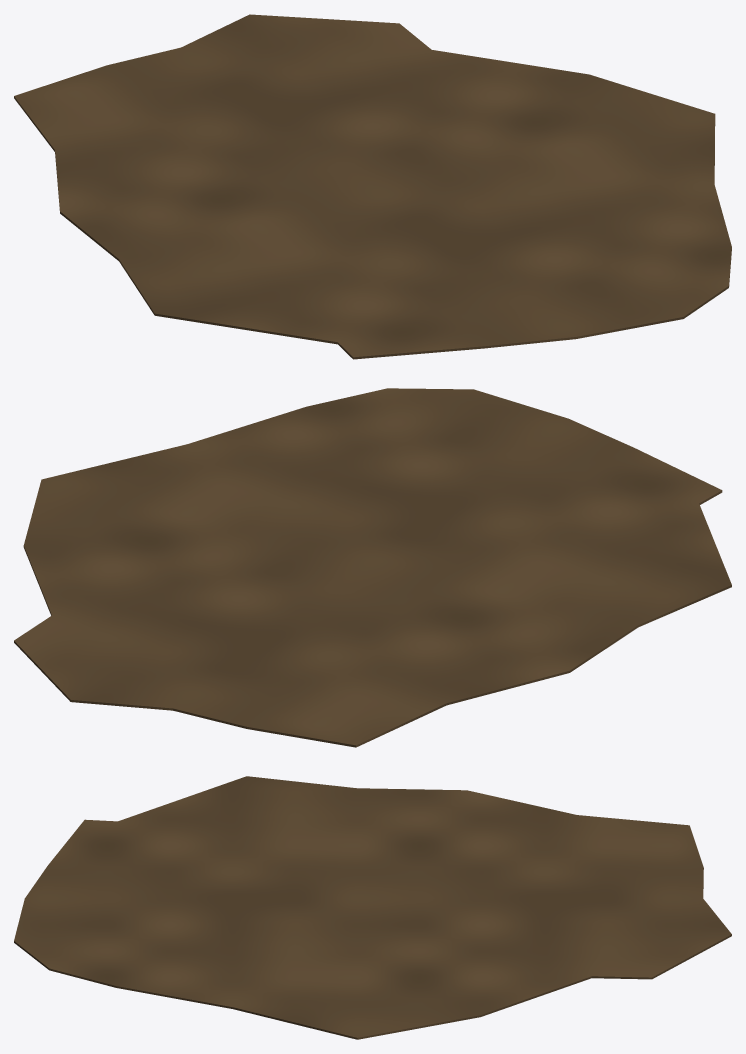
The model's file is b12_ground_patch.fbx.
3 renders of one model, top to bottom at view 1: azimuth 30°, elevation 25°; view 2: azimuth 150°, elevation 25°; view 3: azimuth 270°, elevation 25°, orthographic. The views are drawn at different scales.
Parts seen in each view (by area): view 1: b12_ground_patch; view 2: b12_ground_patch; view 3: b12_ground_patch.
Boxes of the visible parts, bbox=[...] form: b12_ground_patch: bbox=[14, 14, 731, 359]; b12_ground_patch: bbox=[14, 388, 731, 747]; b12_ground_patch: bbox=[14, 776, 731, 1039].
Size of the model in its own units: 14875 by 17244 by 50.
